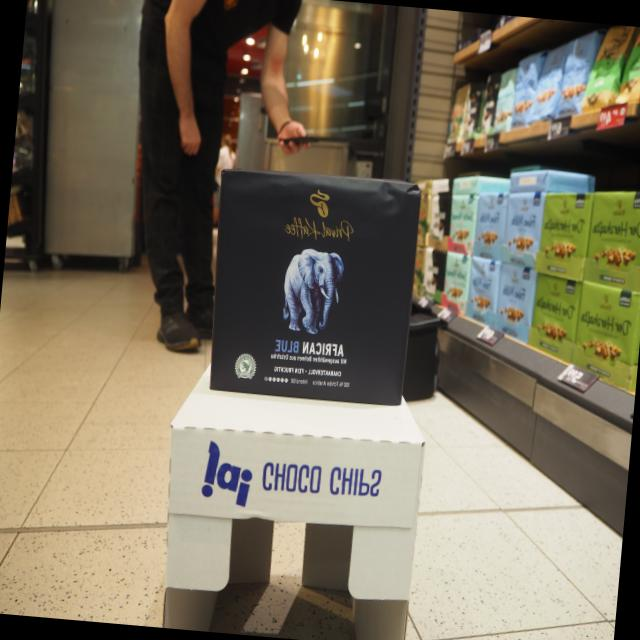AB Gemahlen: (206, 163, 425, 408)
